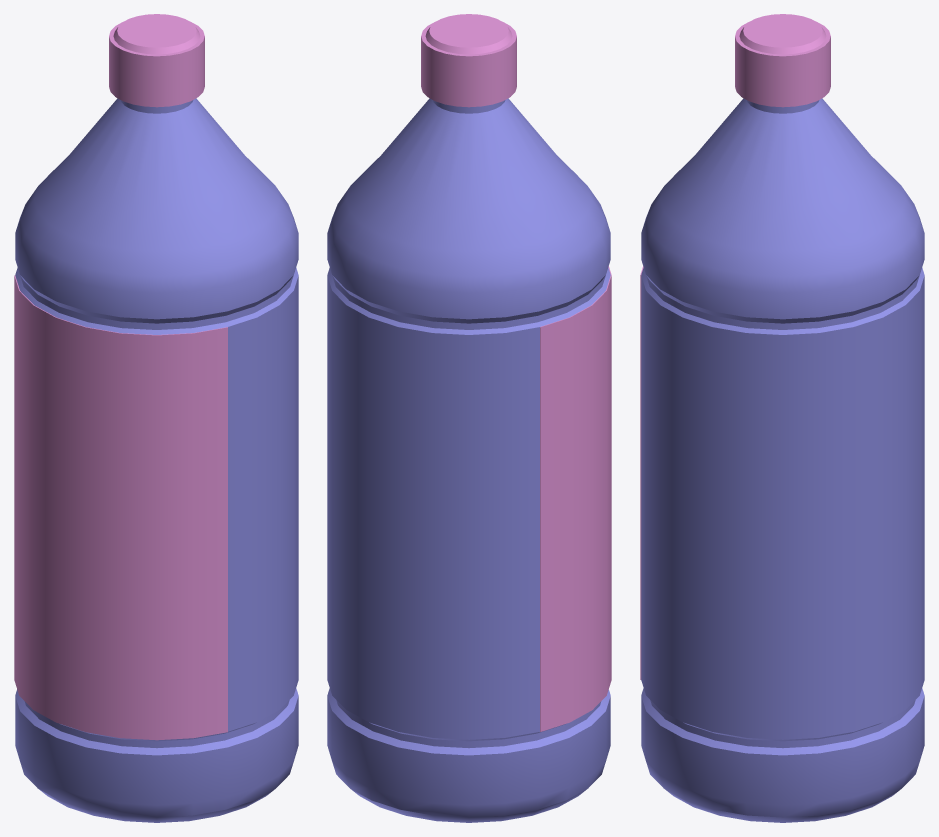
File: FBX_DistilledWater.fbx
3 views of the same model, side by side, from view 1: azimuth 30°, elevation 25°; view 2: azimuth 150°, elevation 25°; view 3: azimuth 270°, elevation 25° (orthographic).
Visible parts, largest first — view 1: SM_DistilledWater_body, SM_DistilledWater_Sticker, SM_DistilledWater_cap; view 2: SM_DistilledWater_body, SM_DistilledWater_Sticker, SM_DistilledWater_cap; view 3: SM_DistilledWater_body, SM_DistilledWater_cap, SM_DistilledWater_Sticker.
Part boxes in pixels (box(x1,y1,x2,y2)): SM_DistilledWater_body: box(15, 98, 298, 822); SM_DistilledWater_Sticker: box(14, 275, 227, 740); SM_DistilledWater_cap: box(109, 14, 204, 107); SM_DistilledWater_body: box(327, 98, 610, 822); SM_DistilledWater_Sticker: box(540, 266, 611, 731); SM_DistilledWater_cap: box(421, 14, 516, 107); SM_DistilledWater_body: box(641, 98, 924, 822); SM_DistilledWater_cap: box(735, 14, 830, 107); SM_DistilledWater_Sticker: box(640, 266, 643, 679).
Bounding box in the file's own units: 0.1012 × 0.2916 × 0.1012.
